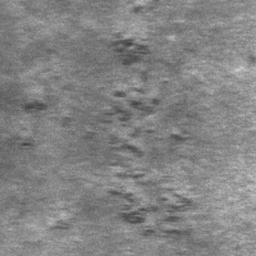Rolled in scale: (101, 88, 195, 235), (112, 32, 151, 66), (171, 130, 188, 141), (16, 137, 33, 147), (25, 103, 44, 111), (133, 6, 153, 13), (50, 223, 68, 230)
